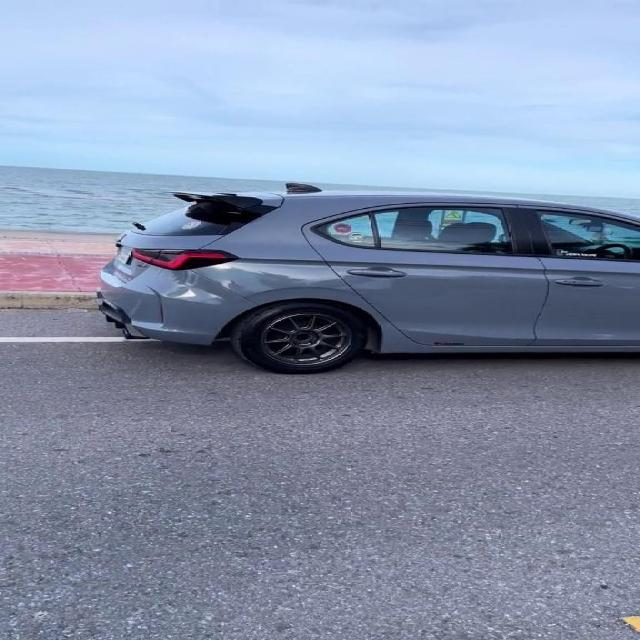Hatchback: (99, 182, 639, 374)
